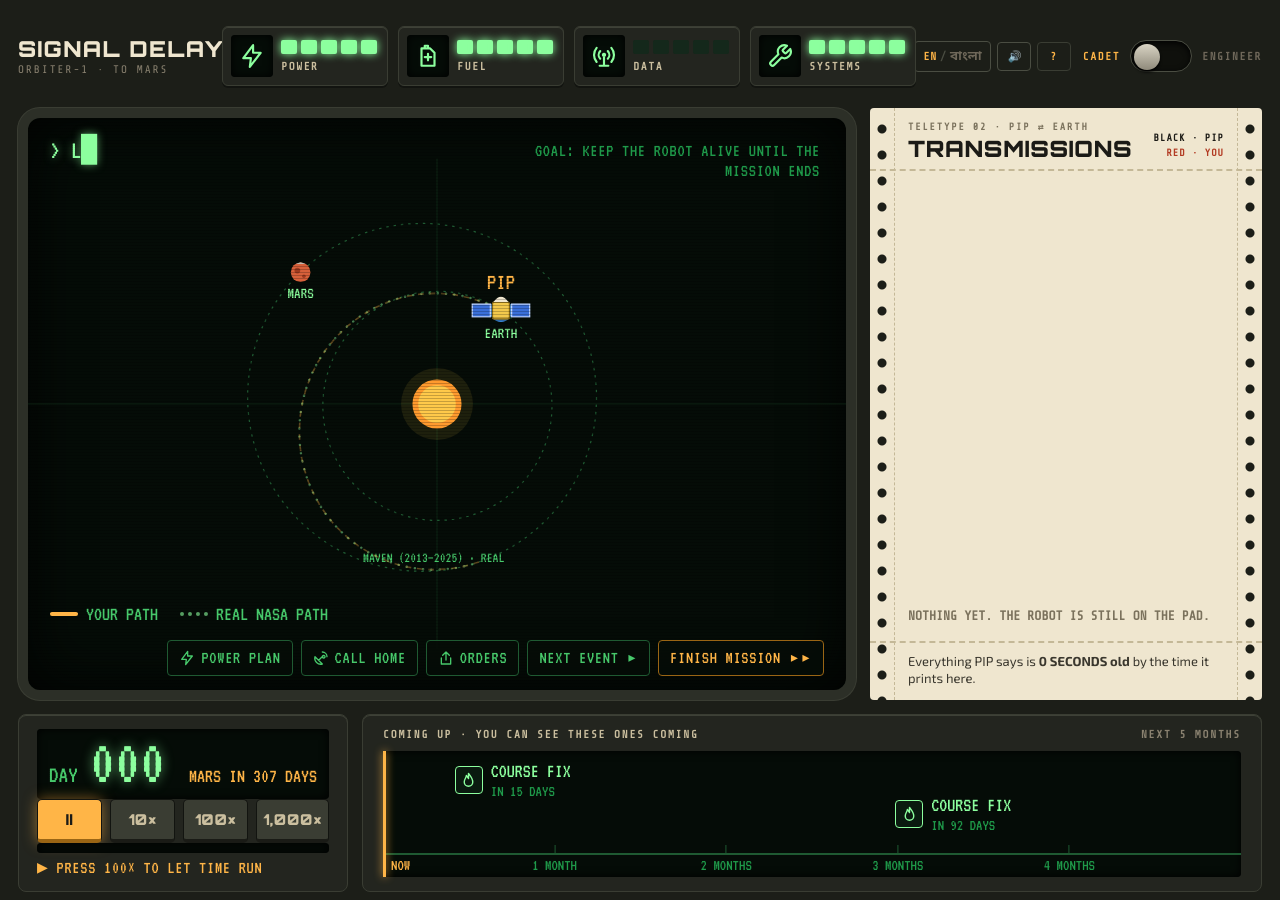
Test: the language switch › in flight the switch changes the words, not the flight: same day, same numbers
The image size is (1280, 900).
Click the button "EN / বাংলা" at (953, 56), box [914,40,991,72]
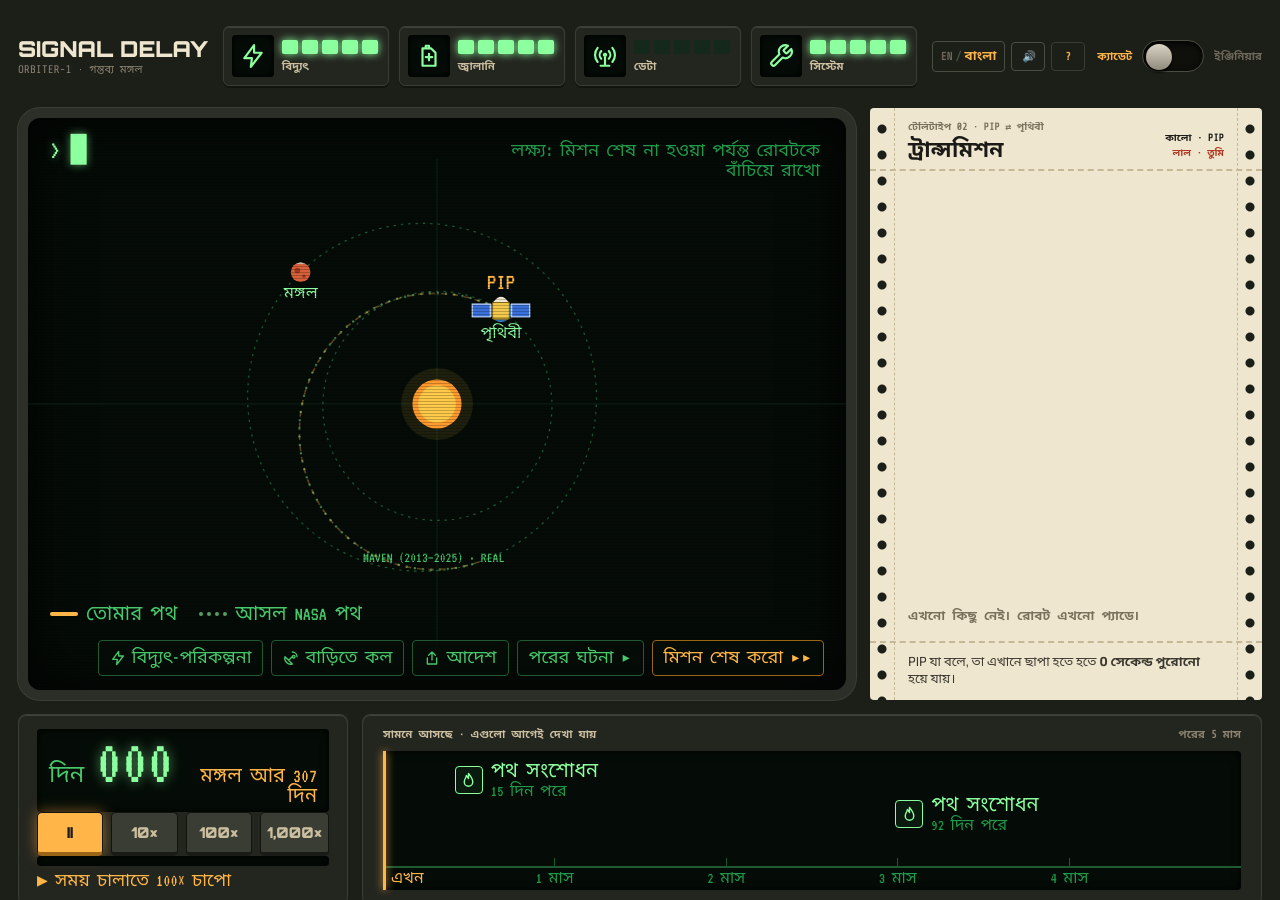
Check: the text with class "fly-day-num" reads "000", box [96,731,173,795]
Check: the button with class "finish" reads "মিশন শেষ করো ▸▸", box [652,640,824,676]
Click the button "EN / বাংলা" at (968, 56), box [932,40,1005,72]
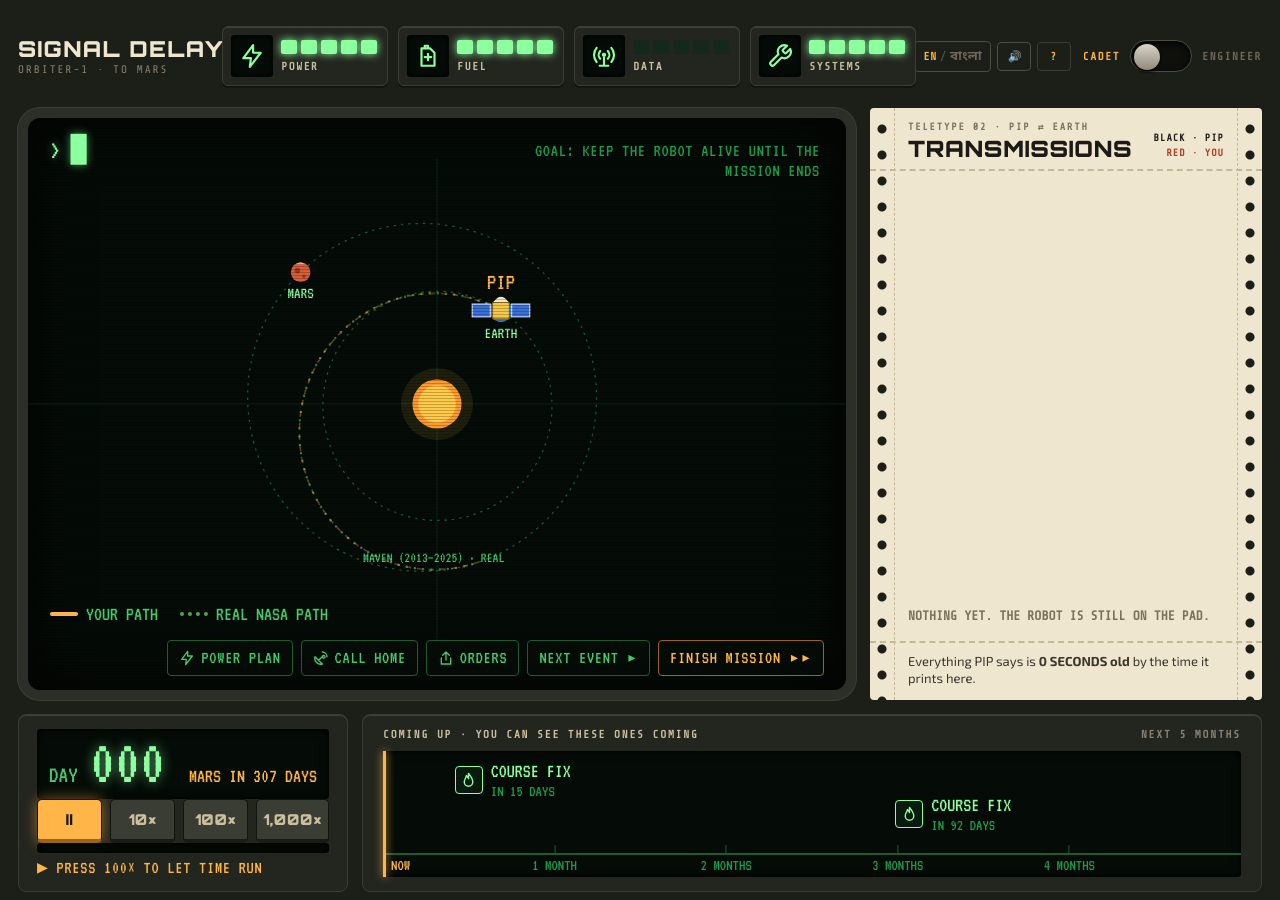
Check: the button with class "finish" reads "FINISH MISSION ▸▸", box [658,640,824,676]
